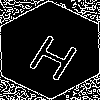H: (25, 25, 87, 83)
